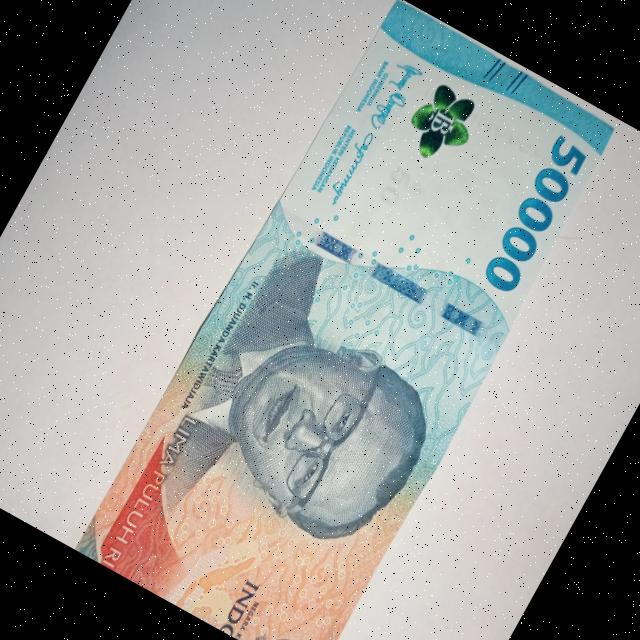50K: (77, 0, 631, 640)
